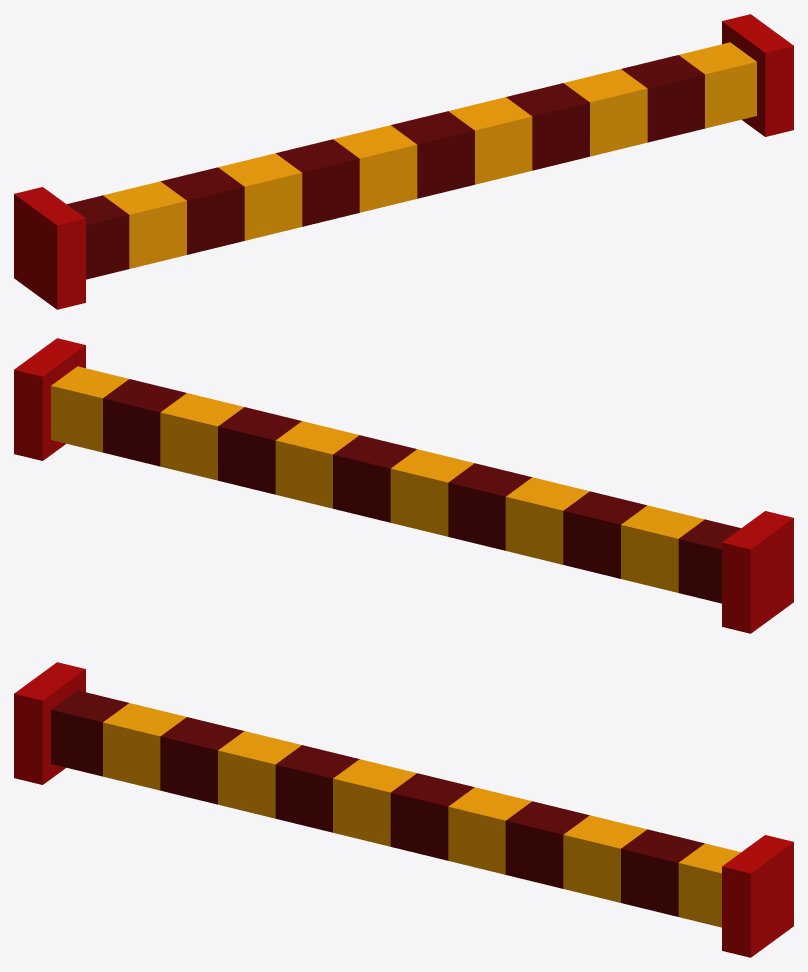
Rendered from girder.glb.
3 renders of one model, top to bottom at view 1: azimuth 30°, elevation 25°; view 2: azimuth 150°, elevation 25°; view 3: azimuth 330°, elevation 25°, orthographic.
Parts seen in each view (by area): view 1: girder; view 2: girder; view 3: girder.
Part boxes in pixels (x1,y1,x2,y2): girder: [14, 14, 793, 309]; girder: [14, 338, 793, 633]; girder: [14, 662, 793, 957].
Bounding box in the file's own units: 25.6 × 2.8 × 2.6.
